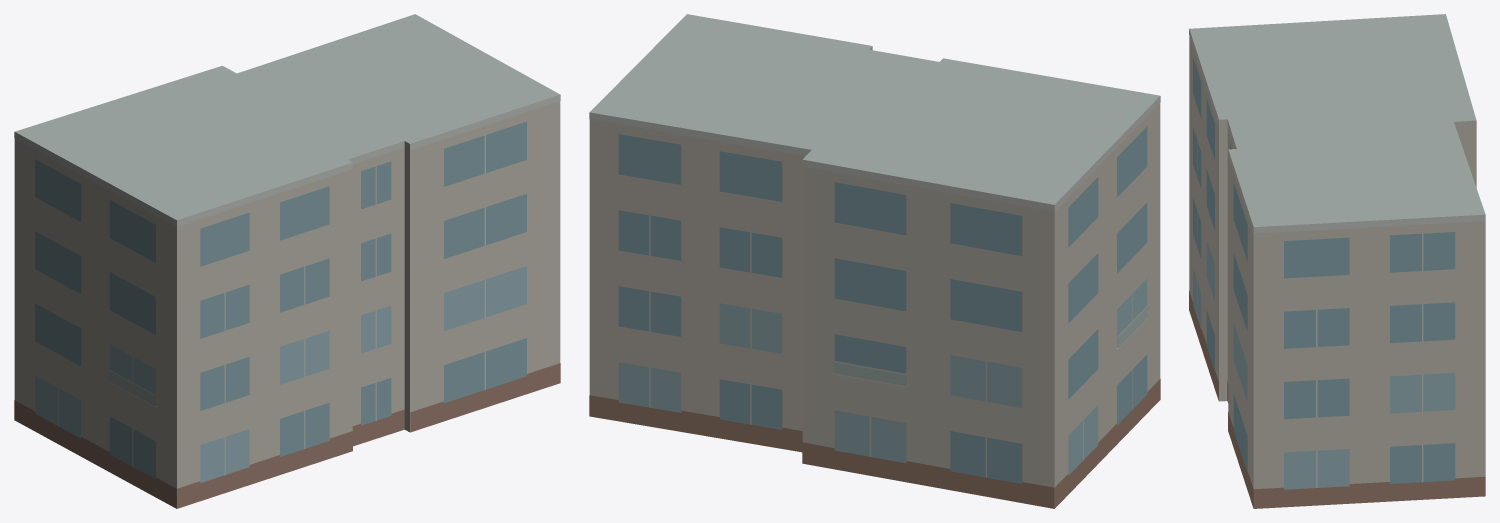
The model's file is survey-upis-32542625.glb.
3 renders of one model, left to right at view 1: azimuth 30°, elevation 25°; view 2: azimuth 150°, elevation 25°; view 3: azimuth 270°, elevation 25°, orthographic. The views are drawn at different scales.
Visible parts, largest first — view 1: survey-upis-32542625.tmp; view 2: survey-upis-32542625.tmp; view 3: survey-upis-32542625.tmp.
Part boxes in pixels (x1,y1,x2,y2): survey-upis-32542625.tmp: [14, 14, 560, 508]; survey-upis-32542625.tmp: [589, 14, 1160, 508]; survey-upis-32542625.tmp: [1189, 14, 1485, 508].
Bounding box in the file's own units: 17.34 × 10.68 × 10.19.
